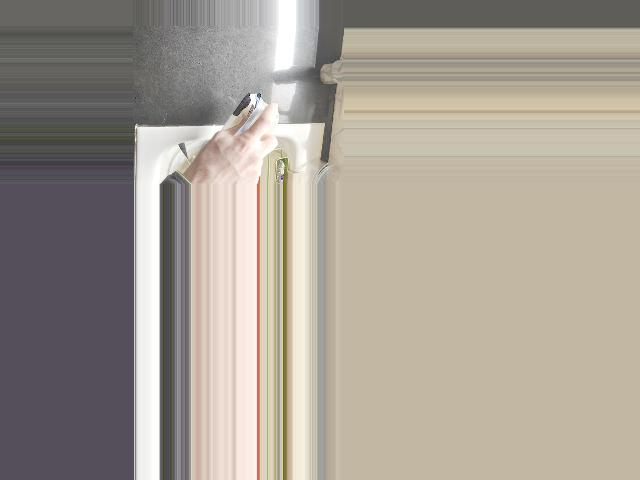cheese: (208, 89, 274, 179)
